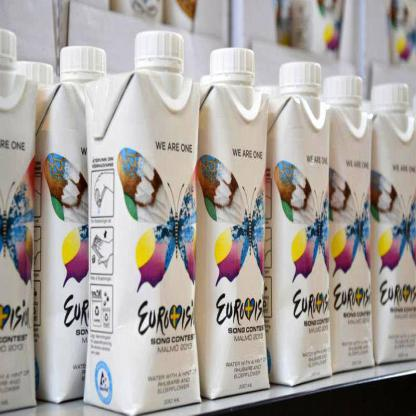tetra: (75, 20, 203, 416)
